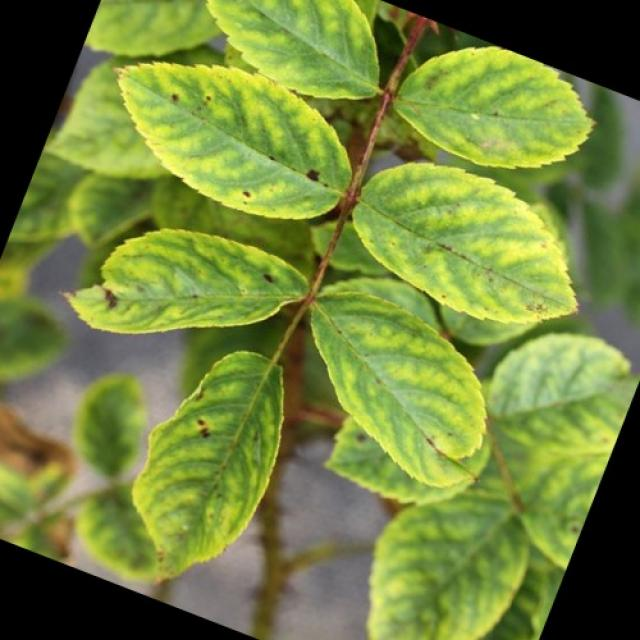Chlorosis: (24, 23, 624, 640)
